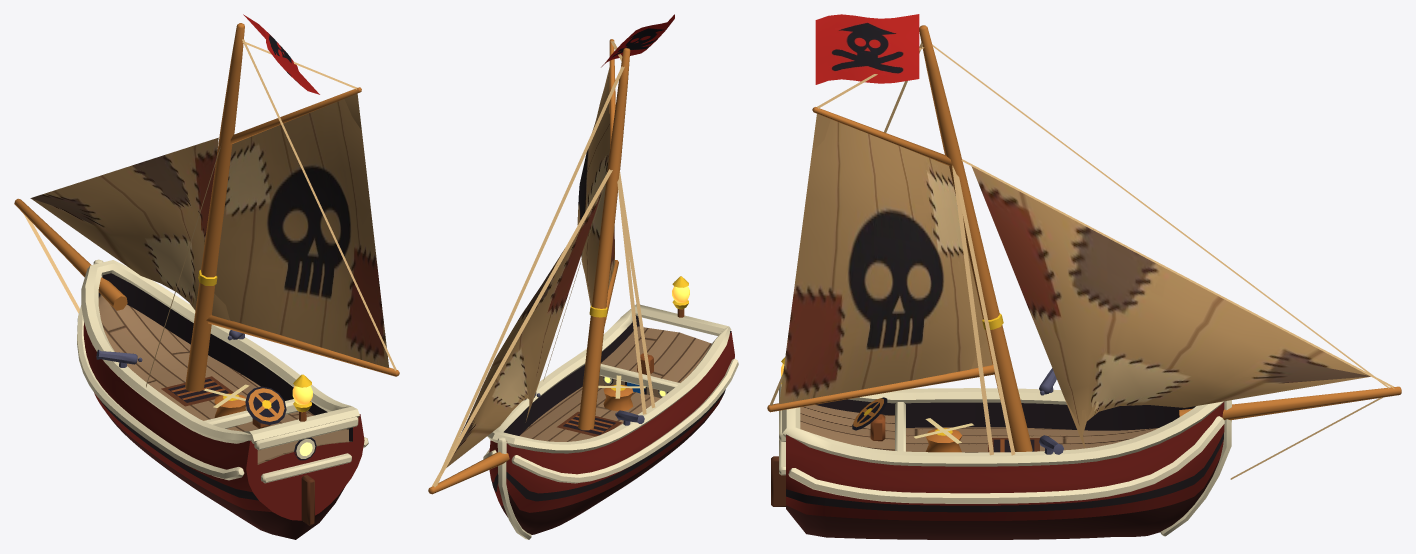
Rendered from brethren_cutter.glb.
3 renders of one model, left to right at view 1: azimuth 30°, elevation 25°; view 2: azimuth 150°, elevation 25°; view 3: azimuth 270°, elevation 25°, orthographic. The views are drawn at different scales.
Visible parts, largest first — view 1: Hull, Sail0_0, Jib, Rigging, Flag, Guns0; view 2: Hull, Rigging, Jib, Sail0_0, Flag; view 3: Hull, Sail0_0, Jib, Rigging, Flag.
Part boxes in pixels (bbox=[...]): Hull: bbox=[77, 259, 368, 539]; Sail0_0: bbox=[212, 93, 388, 368]; Jib: bbox=[30, 137, 218, 310]; Rigging: bbox=[14, 23, 399, 391]; Flag: bbox=[243, 14, 319, 94]; Guns0: bbox=[96, 330, 244, 367]; Hull: bbox=[483, 276, 738, 539]; Rigging: bbox=[428, 39, 655, 494]; Jib: bbox=[446, 187, 603, 467]; Sail0_0: bbox=[577, 67, 615, 305]; Flag: bbox=[601, 14, 674, 67]; Hull: bbox=[771, 357, 1231, 539]; Sail0_0: bbox=[779, 114, 992, 403]; Jib: bbox=[971, 166, 1370, 448]; Rigging: bbox=[767, 25, 1401, 479]; Flag: bbox=[815, 14, 919, 84].
Bounding box in the file's own units: 0.6723 × 1.87 × 2.05.
Materials: 8 (4 with a texture image).
